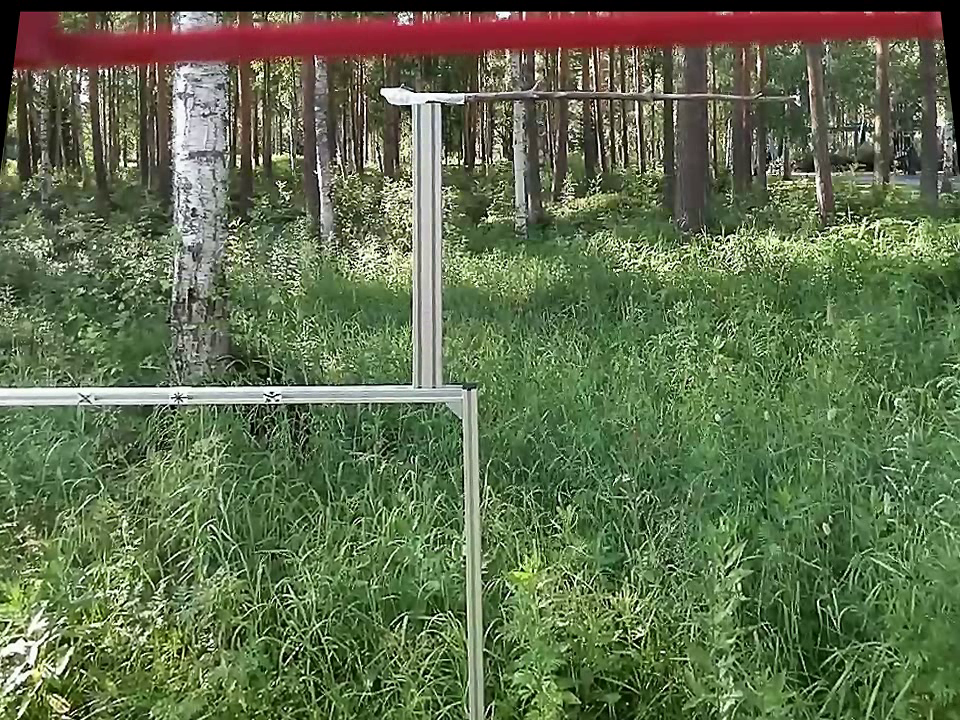aluminum_frame: (1, 377, 465, 414), (458, 380, 494, 717), (408, 104, 448, 389)
branch: (471, 72, 784, 112)
